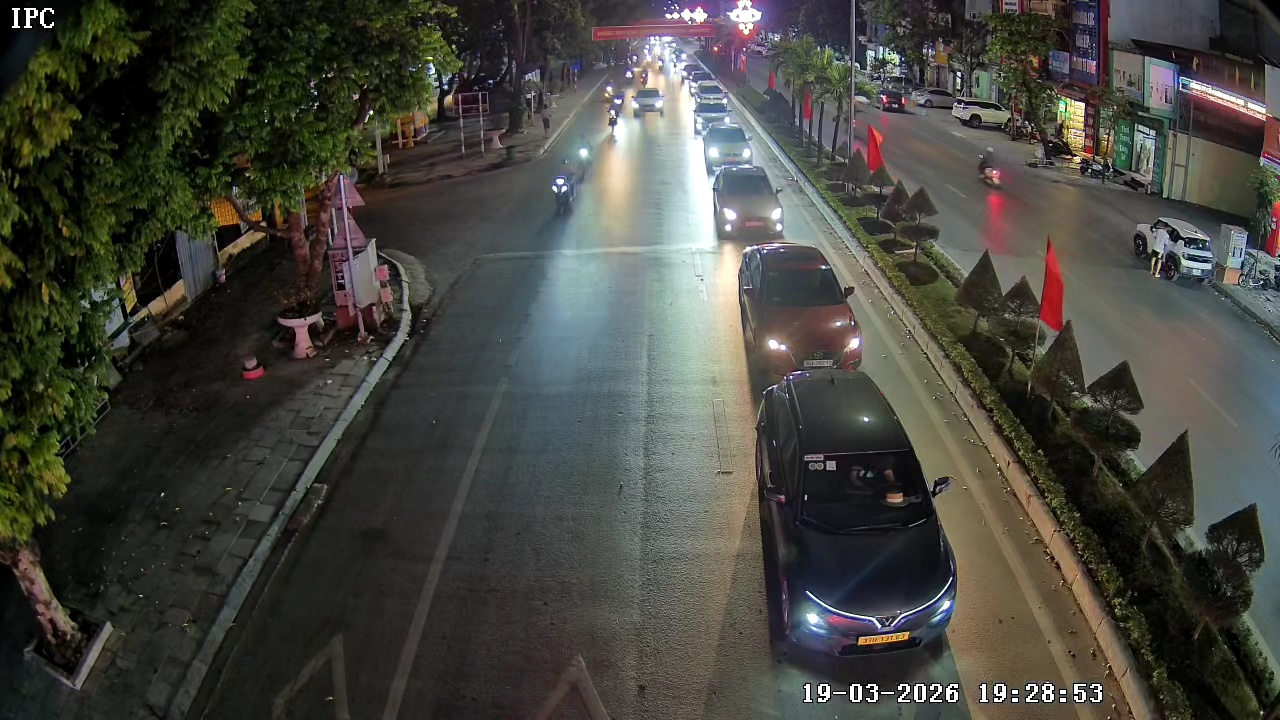car: (752, 369, 954, 703), (737, 240, 863, 392), (710, 164, 785, 239), (632, 85, 669, 122)
motorbike: (550, 141, 593, 216), (605, 103, 622, 132)
